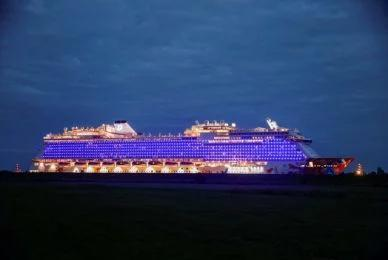youlun: (32, 118, 357, 173)
